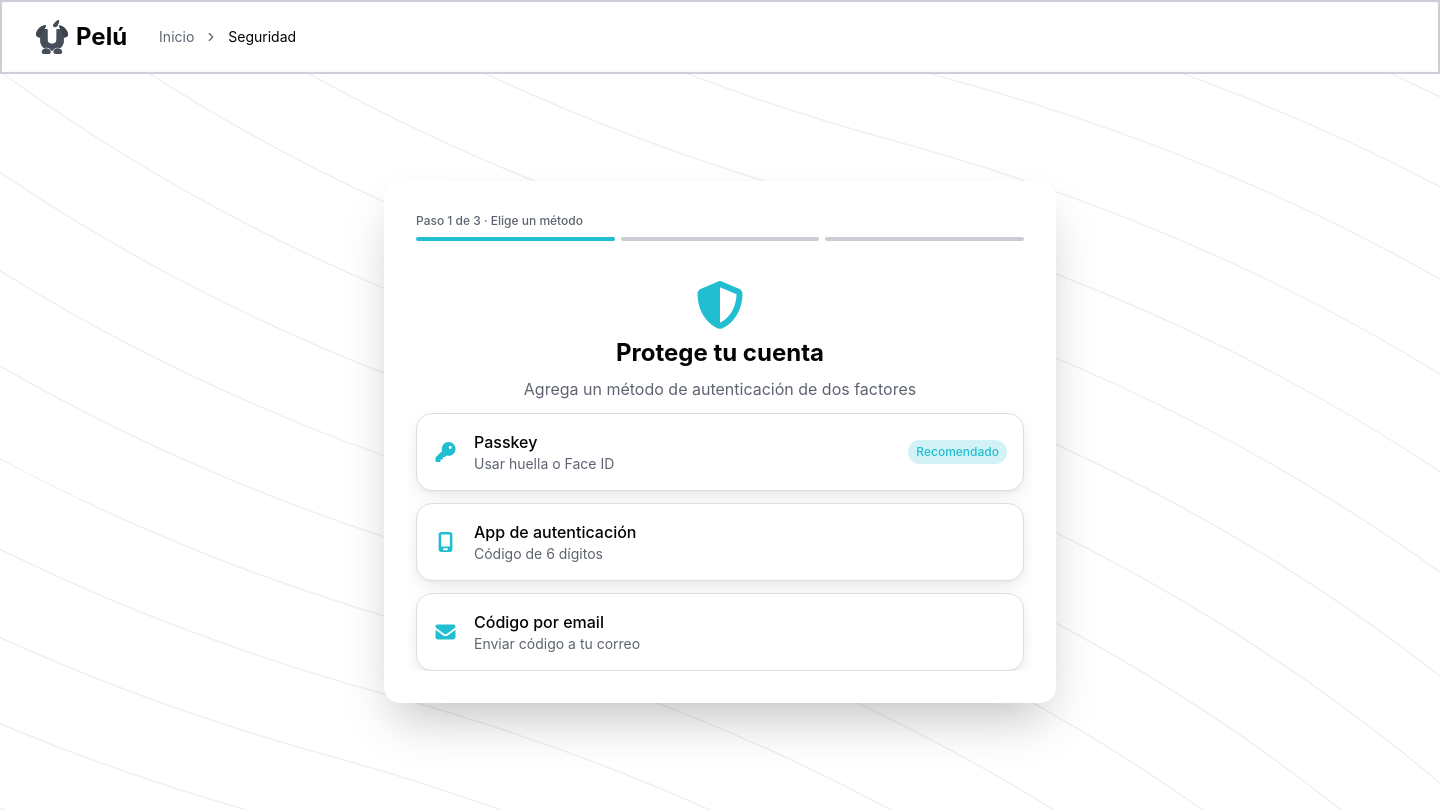
Test case: MfaEnrollment — one panel shell, one step indicator › takes the breadcrumb links away on the recovery step
Expected: the button "Inicio" is shown, 159,27 -> 194,47
Click the button "Código por email Enviar código a tu correo": click(539, 622) 416,593 -> 1024,671
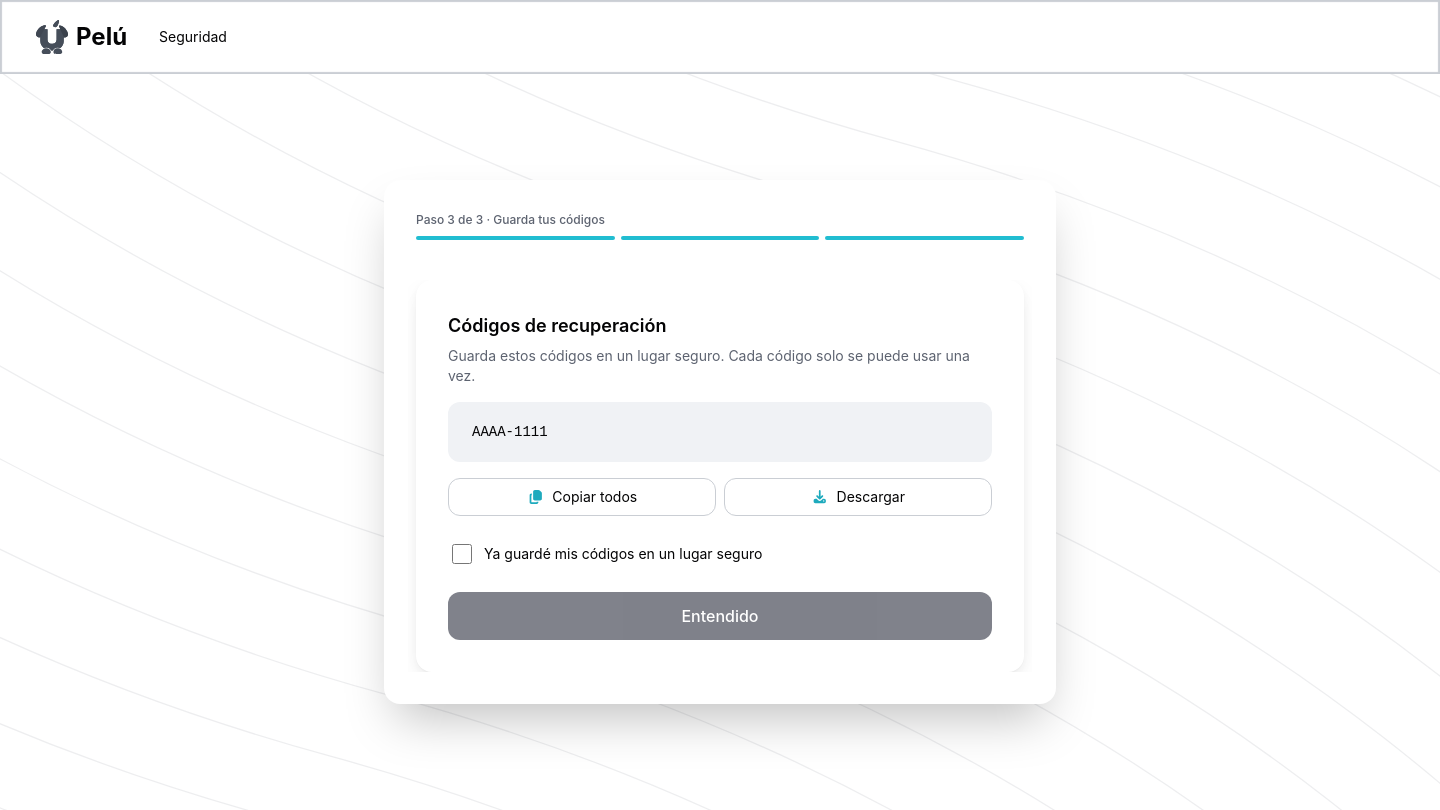
Expected: the link "Seguridad" is shown, 159,27 -> 227,47
Now the text "AAAA-1111" is shown, box 472,424 -> 548,440
Now the button "Inicio" is gone
